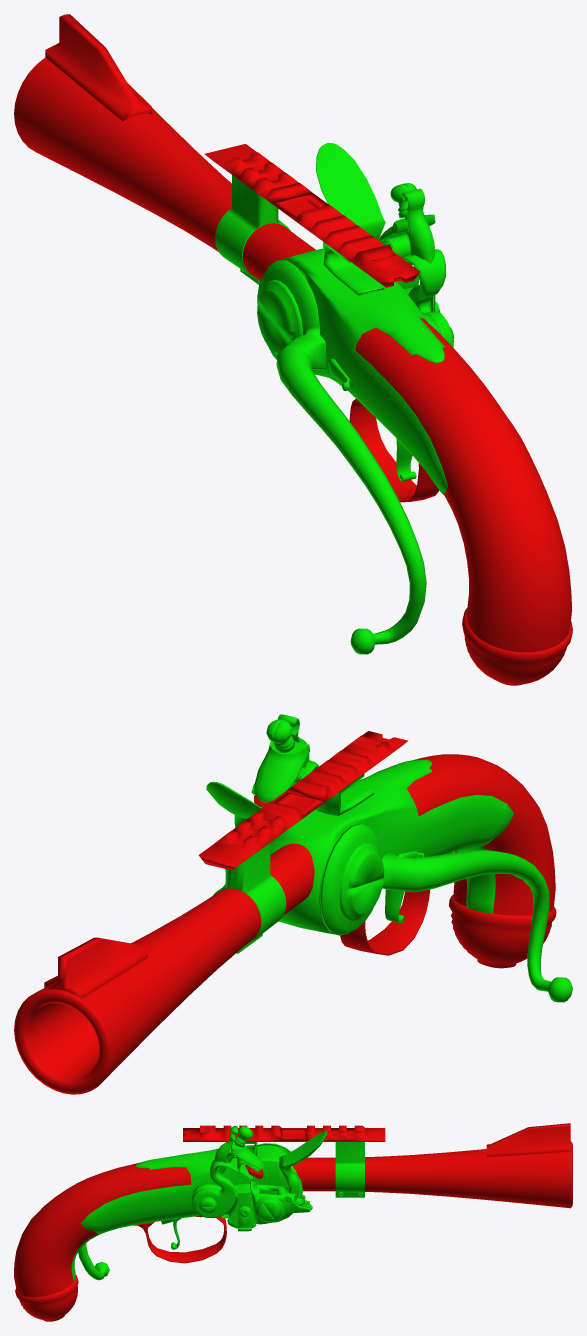
The model's file is FlintLock.fbx.
3 views of the same model, one above another, from view 1: azimuth 30°, elevation 25°; view 2: azimuth 150°, elevation 25°; view 3: azimuth 270°, elevation 25° (orthographic). The views are drawn at different scales.
Parts seen in each view (by area): view 1: Handle_low, Barrel_low, MetalBody_low, LeftLever_low, Rail_low, IronSight_low, Frizzer_low, Cap_low, RailFrontMaount_low, TriggerGuard_low, MainScrew_low, Hammer_low (+2 smaller); view 2: Barrel_low, MetalBody_low, LeftLever_low, Handle_low, Rail_low, Cap_low, IronSight_low, RailFrontMaount_low, MainScrew_low, TriggerGuard_low, HammerTop_low, Frizzer_low (+3 smaller); view 3: Barrel_low, Handle_low, MetalBody_low, Rail_low, IronSight_low, RailFrontMaount_low, Hammer_low, Cap_low, Frizzer_low, TriggerGuard_low, FrizzenBase_low2, ScrewHead_low (+5 smaller).
Part boxes in pixels (x1,y1,x2,y2): Handle_low: (355,317,571,652); Barrel_low: (14,57,315,280); MetalBody_low: (279,248,447,495); LeftLever_low: (257,260,426,654); Rail_low: (204,144,420,287); IronSight_low: (45,14,151,121); Frizzer_low: (316,143,385,240); Cap_low: (462,608,572,685); RailFrontMaount_low: (215,175,290,284); TriggerGuard_low: (349,399,439,502); MainScrew_low: (257,279,302,354); Hammer_low: (402,249,453,347); Barrel_low: (14,843,314,1094); MetalBody_low: (270,759,513,934); LeftLever_low: (320,823,572,1002); Handle_low: (407,754,555,915); Rail_low: (198,731,408,870); Cap_low: (449,895,556,968); IronSight_low: (44,937,147,998); RailFrontMaount_low: (213,843,286,953); MainScrew_low: (339,843,384,920); TriggerGuard_low: (340,889,430,955); HammerTop_low: (254,741,309,802); Frizzer_low: (206,781,263,827); Barrel_low: (292,1141,572,1208); Handle_low: (14,1162,191,1297); MetalBody_low: (71,1144,302,1281); Rail_low: (183,1125,385,1141); IronSight_low: (486,1123,570,1157); RailFrontMaount_low: (335,1142,364,1197); Hammer_low: (192,1159,244,1217); Cap_low: (15,1275,78,1321); Frizzer_low: (279,1130,327,1205); TriggerGuard_low: (133,1216,226,1263); FrizzenBase_low2: (249,1180,309,1224); ScrewHead_low: (254,1196,282,1221).
Size of the model in its own units: 10.6 by 17.54 by 42.68.
